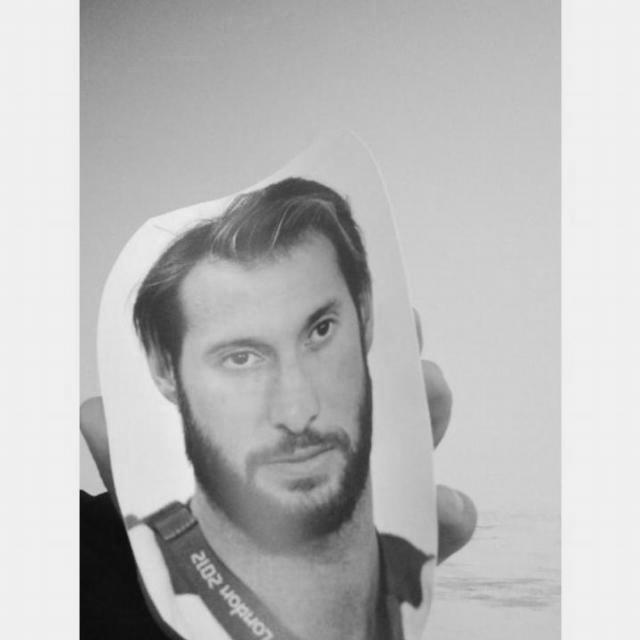fake: (82, 117, 478, 639)
